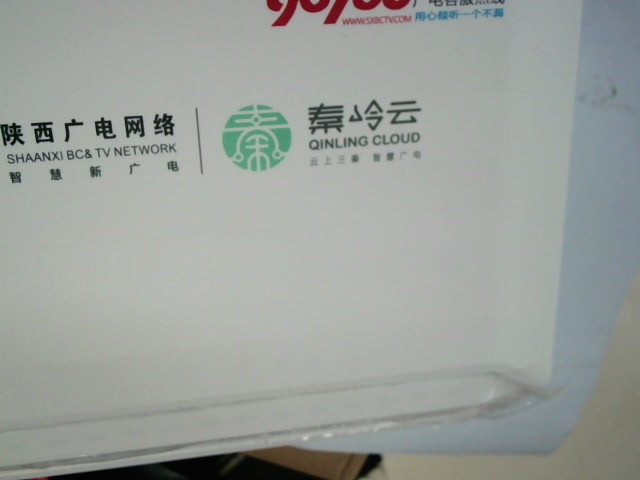AE_QinLing: (214, 89, 435, 188)
